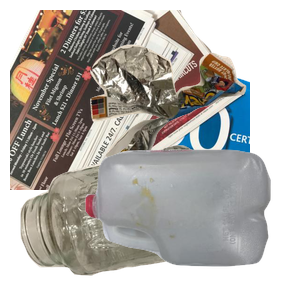glass: (18, 143, 227, 300)
paper: (10, 10, 250, 190)
plastic: (83, 147, 300, 300)
trash: (88, 42, 300, 219)
